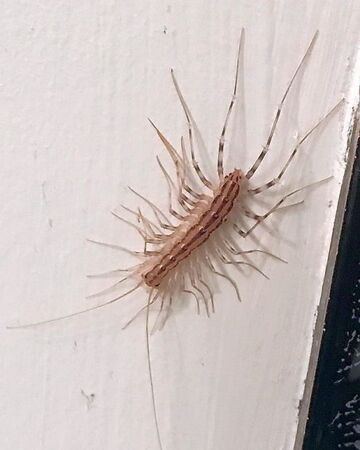centipede: (88, 27, 342, 333)
